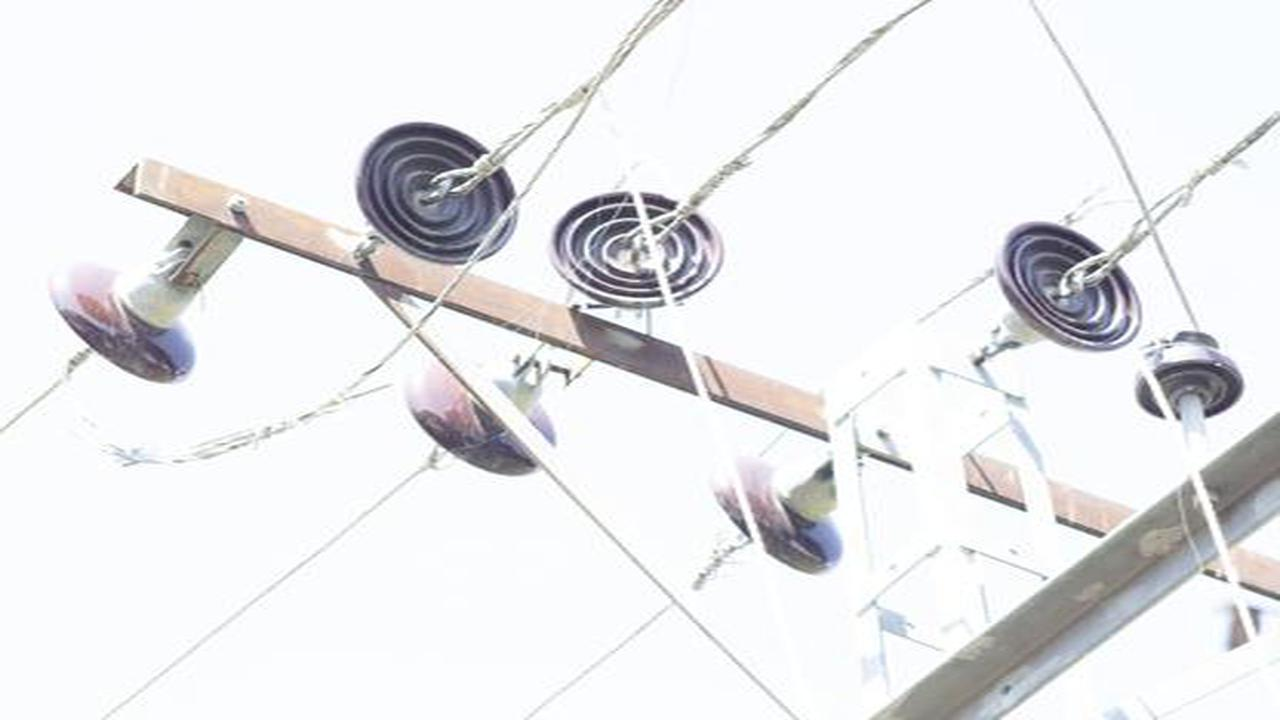insulator_disc: (351, 117, 522, 269), (547, 186, 731, 311), (991, 216, 1142, 359), (45, 249, 202, 383), (409, 349, 566, 477), (709, 443, 853, 581)
insulator_pin: (1135, 328, 1250, 425)
